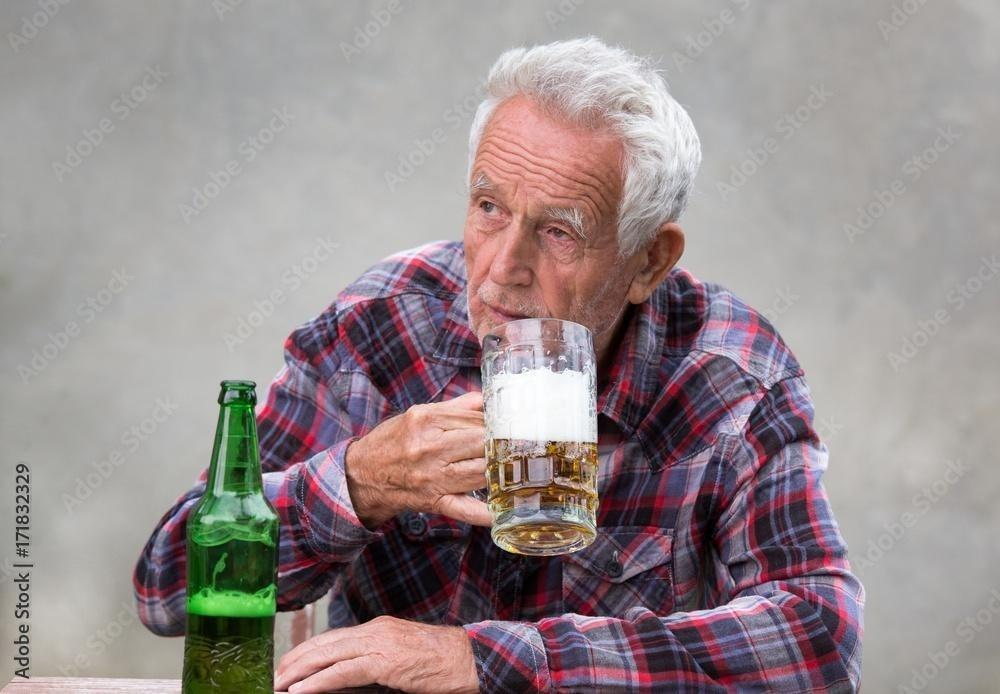bottle-glass: (181, 378, 279, 694)
glass-mug: (474, 312, 603, 561)
